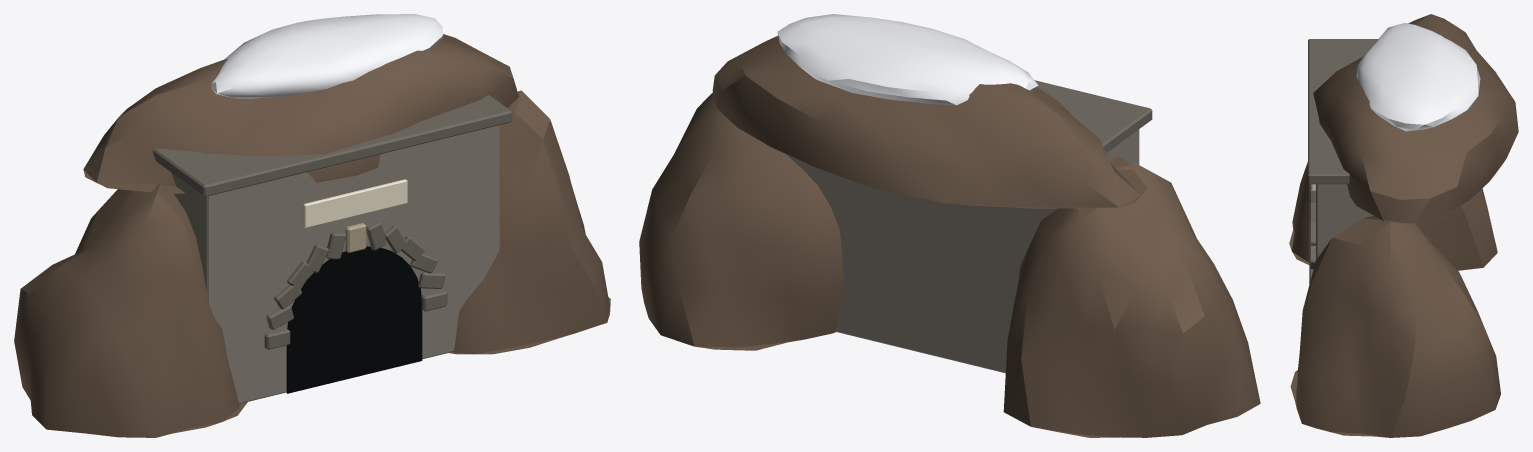
The model's file is tunel.glb.
3 views of the same model, side by side, from view 1: azimuth 30°, elevation 25°; view 2: azimuth 150°, elevation 25°; view 3: azimuth 270°, elevation 25° (orthographic). The views are drawn at different scales.
Parts seen in each view (by area): view 1: tunel; view 2: tunel; view 3: tunel.
Part boxes in pixels (box(x1,y1,x2,y2)): tunel: box(14, 14, 610, 437); tunel: box(639, 14, 1260, 437); tunel: box(1289, 14, 1518, 437).
Size of the model in its own units: 7.12 by 3.58 by 2.77.
